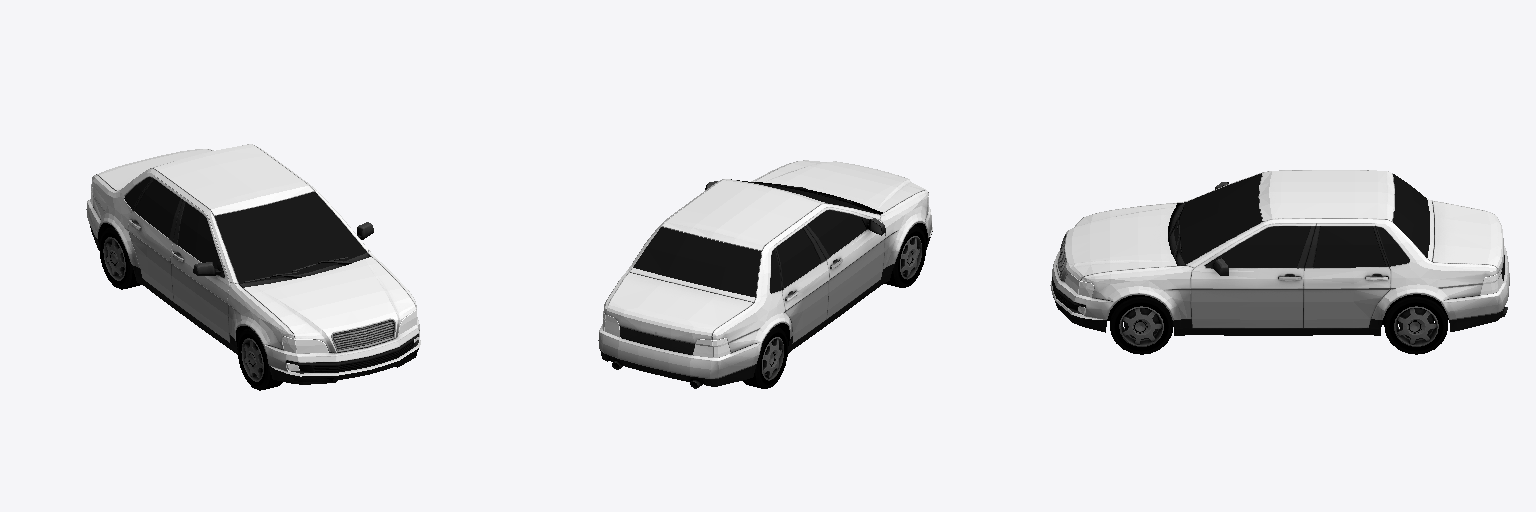
3 views of the same model, side by side, from view 1: azimuth 30°, elevation 25°; view 2: azimuth 150°, elevation 25°; view 3: azimuth 270°, elevation 25° (orthographic).
Parts seen in each view (by area): view 1: Sedan_Body_Mesh.040, Wheel_A002_Mesh.043, Wheel_A003_Mesh.044; view 2: Sedan_Body_Mesh.040, Wheel_A003_Mesh.044, Wheel_A002_Mesh.043; view 3: Sedan_Body_Mesh.040, Wheel_A001_Mesh.042, Wheel_A_Mesh.041.
Boxes of the visible parts, <box> form: Sedan_Body_Mesh.040: <box>86,144,420,384</box>; Wheel_A002_Mesh.043: <box>237,328,282,390</box>; Wheel_A003_Mesh.044: <box>99,227,140,289</box>; Sedan_Body_Mesh.040: <box>598,160,932,388</box>; Wheel_A003_Mesh.044: <box>743,327,787,388</box>; Wheel_A002_Mesh.043: <box>884,226,925,287</box>; Sedan_Body_Mesh.040: <box>1050,170,1509,335</box>; Wheel_A001_Mesh.042: <box>1384,294,1447,354</box>; Wheel_A_Mesh.041: <box>1110,295,1173,354</box>.
Size of the model in its own units: 2.18 by 1.51 by 4.91.
Materials: 4 (2 with a texture image).